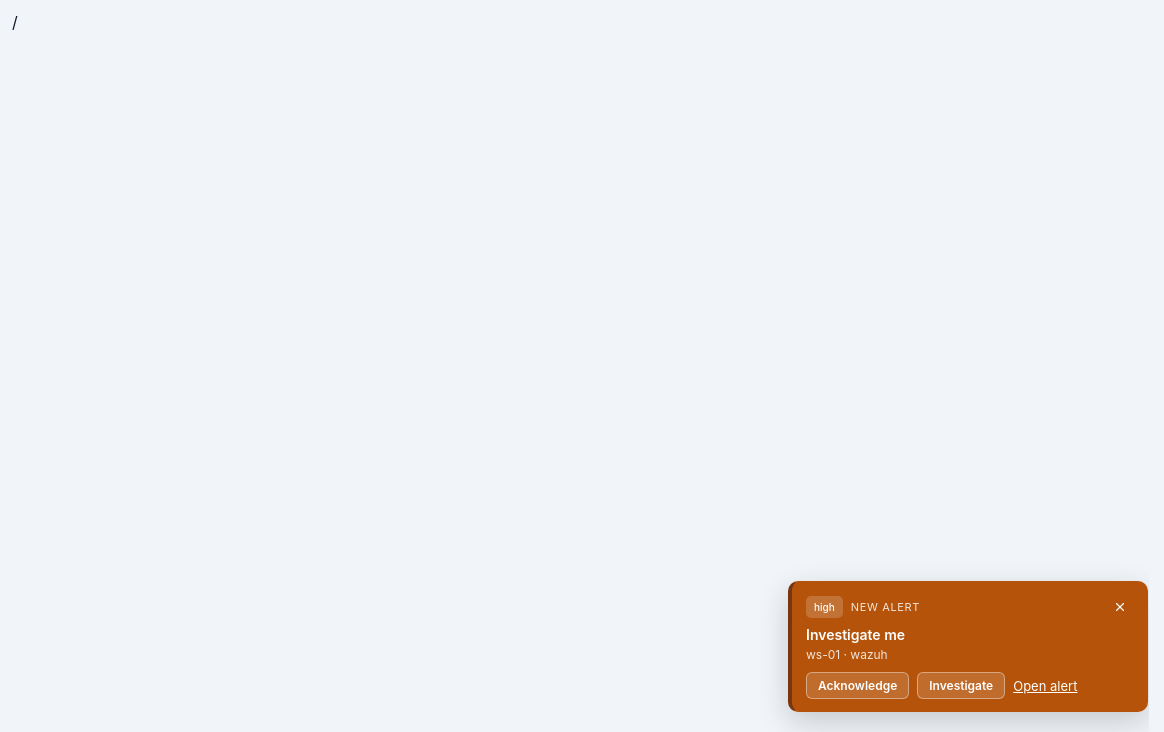
can start an investigation, and shows the error if the update fails
Expected: the text "Investigate me" is shown, [806,626,905,643]
Click the button "Investigate".
click(961, 686)  # box [917,672,1005,699]
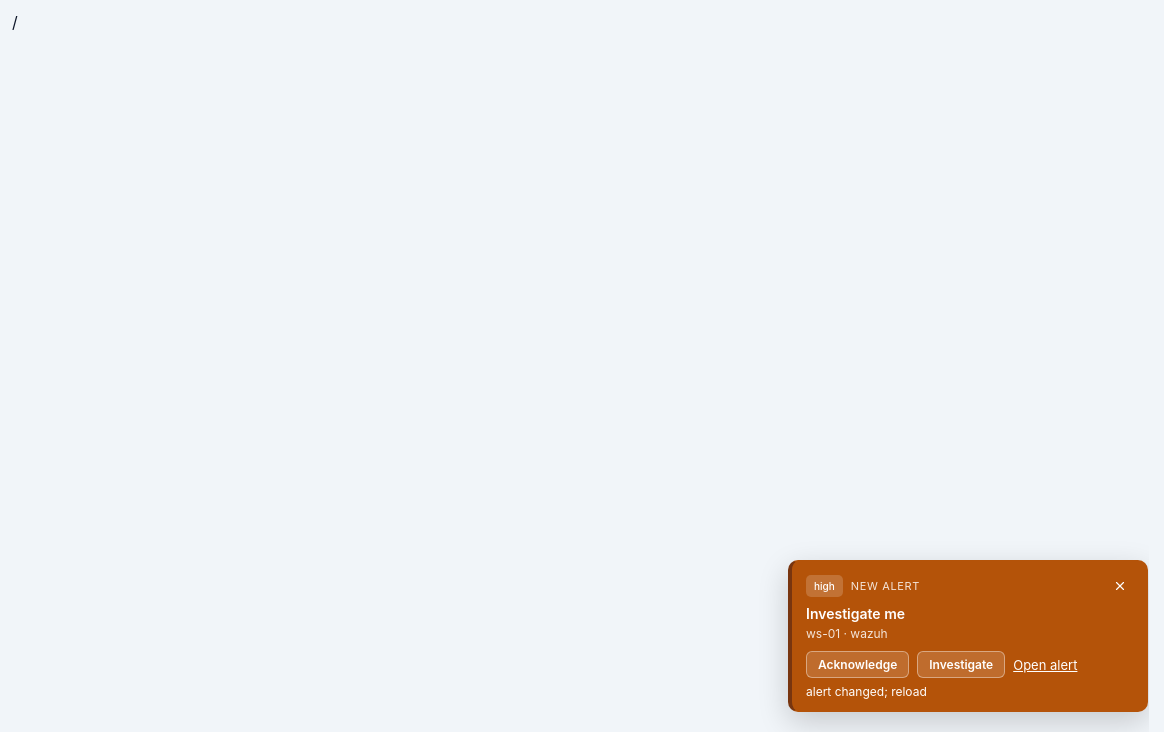
Expected: the button "Investigate" is shown, [917,651,1005,678]
Expected: the text "alert changed; reload" is shown, [806,684,927,699]
